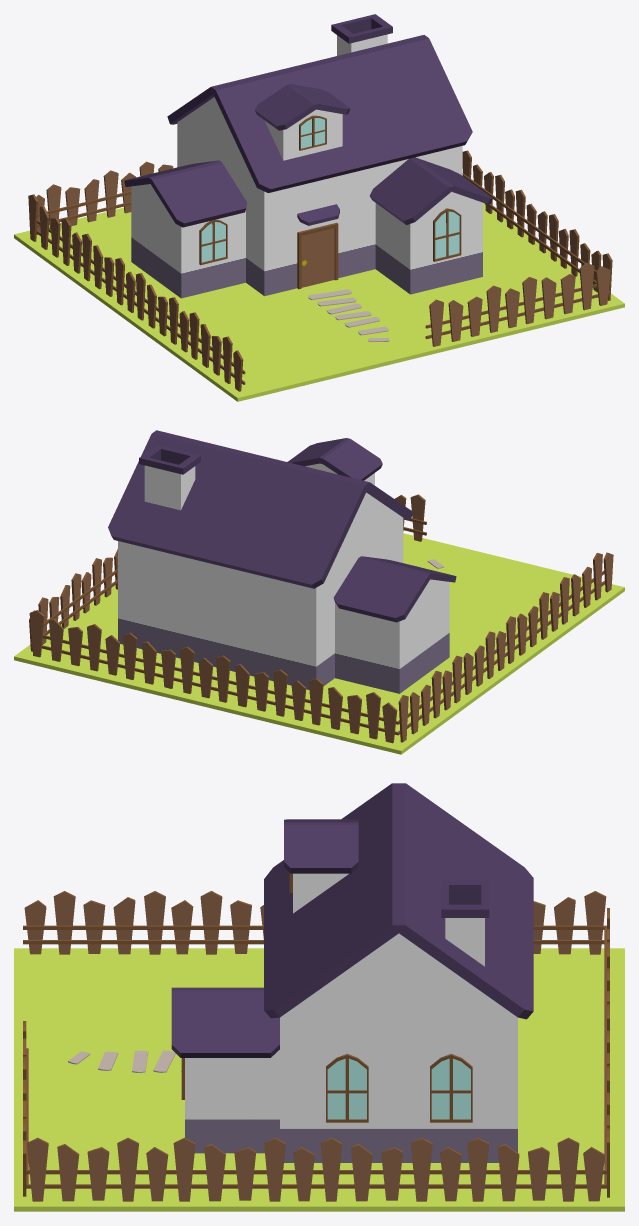
The model's file is House_02.fbx.
3 renders of one model, top to bottom at view 1: azimuth 30°, elevation 25°; view 2: azimuth 150°, elevation 25°; view 3: azimuth 270°, elevation 25°, orthographic. The views are drawn at different scales.
Parts seen in each view (by area): view 1: House_02_Merged; view 2: House_02_Merged; view 3: House_02_Merged.
Part boxes in pixels (box(x1,y1,x2,y2)): House_02_Merged: box(14, 14, 624, 401); House_02_Merged: box(14, 430, 624, 754); House_02_Merged: box(14, 783, 624, 1211).
Bounding box in the file's own units: 45 × 20.47 × 45.
Materials: 6 (6 with a texture image).
